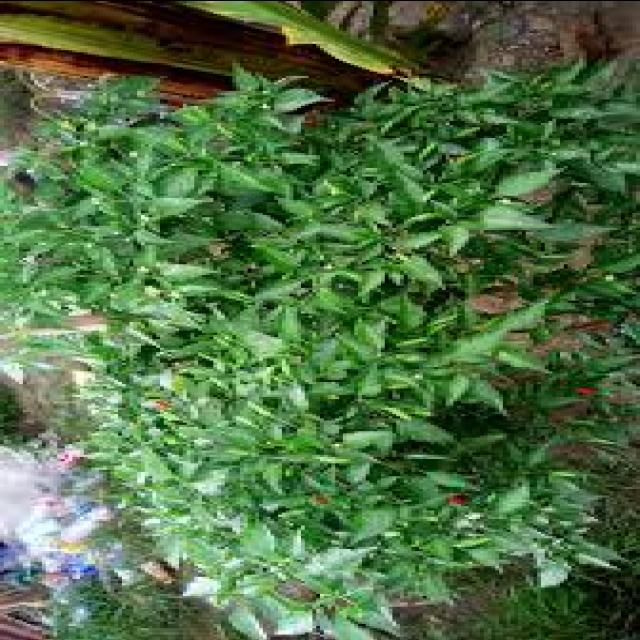sehat: (411, 324, 511, 372), (473, 206, 571, 248), (497, 168, 579, 200)
